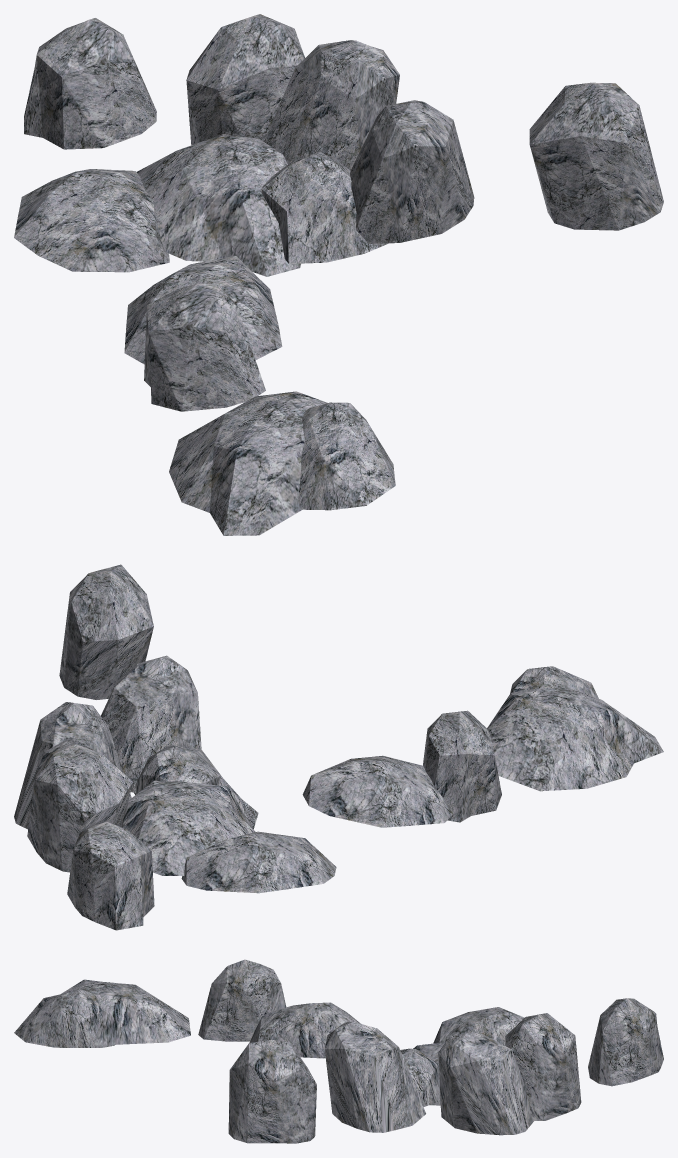
The model's file is des_rockgp1_13.obj.
3 renders of one model, top to bottom at view 1: azimuth 30°, elevation 25°; view 2: azimuth 150°, elevation 25°; view 3: azimuth 270°, elevation 25°, orthographic. The views are drawn at different scales.
Visible parts, largest first — view 1: des_rockgp1_13; view 2: des_rockgp1_13; view 3: des_rockgp1_13.
Part boxes in pixels (x1,y1,x2,y2): des_rockgp1_13: (14,14,663,535); des_rockgp1_13: (14,564,663,930); des_rockgp1_13: (14,959,663,1143).
Bounding box in the file's own units: 103 × 35.49 × 142.
Materials: 2 (2 with a texture image).
